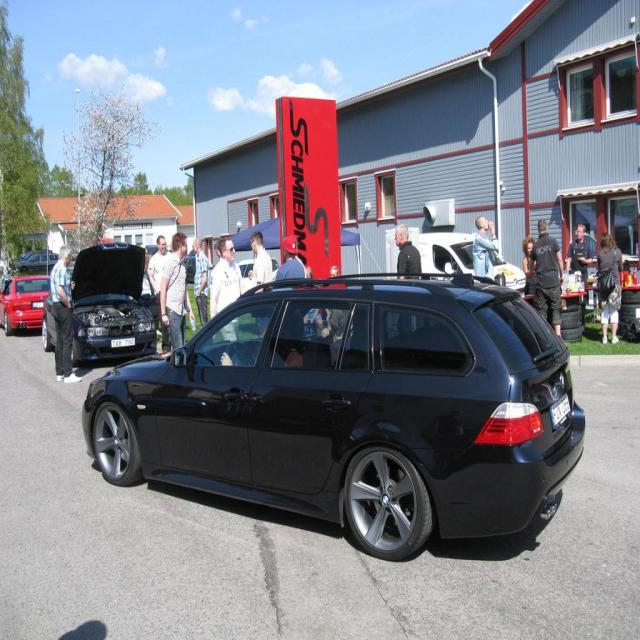car: (76, 264, 586, 562)
